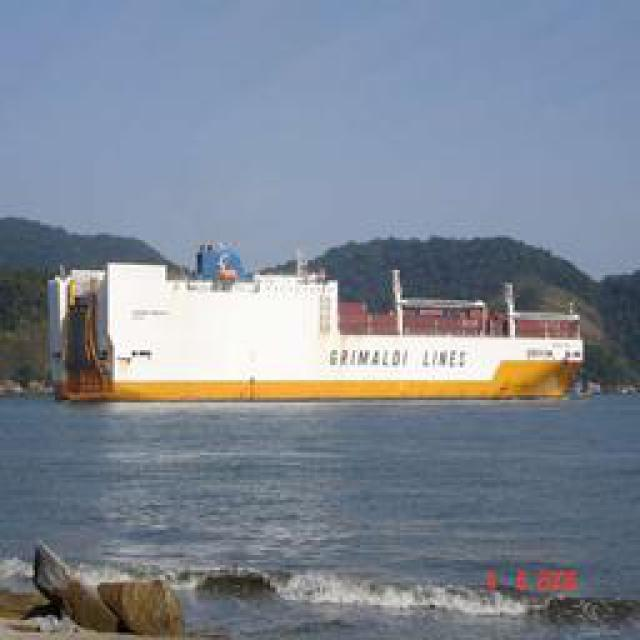Ship: (62, 256, 582, 409)
